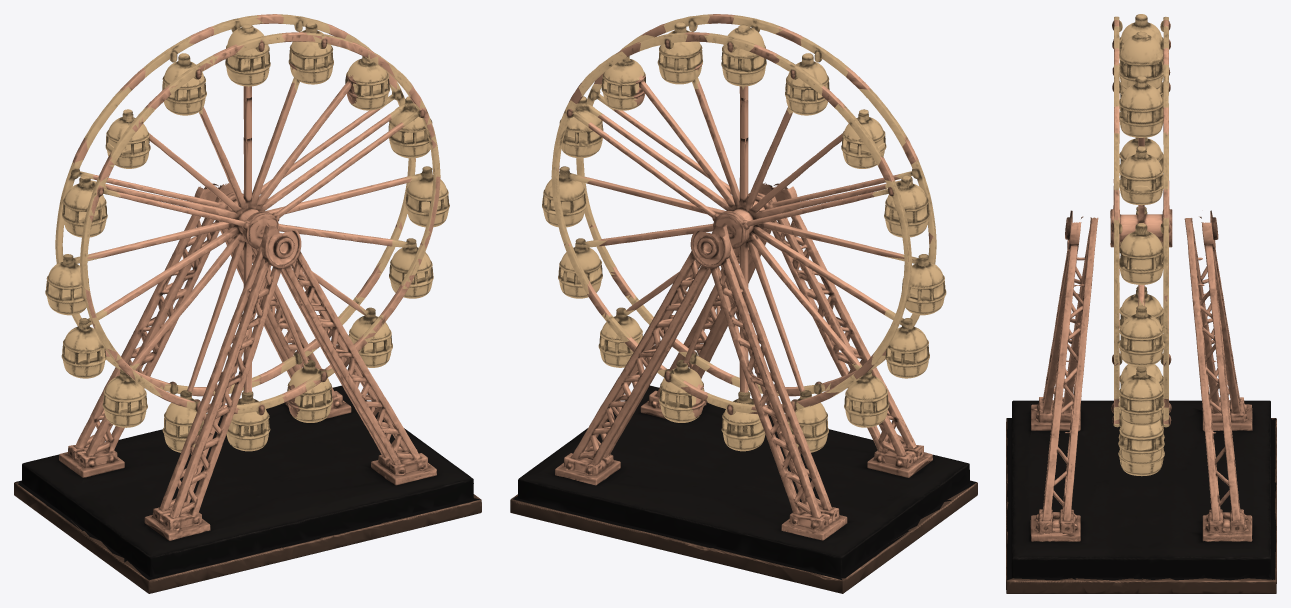
Rendered from ferris-wheel-rare.v1.glb.
3 renders of one model, left to right at view 1: azimuth 30°, elevation 25°; view 2: azimuth 150°, elevation 25°; view 3: azimuth 270°, elevation 25°, orthographic.
Visible parts, largest first — view 1: FerrisWheelTrophy; view 2: FerrisWheelTrophy; view 3: FerrisWheelTrophy.
Boxes of the visible parts, box(x1,y1,x2,y2) form: FerrisWheelTrophy: box(14, 14, 481, 593); FerrisWheelTrophy: box(510, 14, 977, 593); FerrisWheelTrophy: box(1006, 14, 1276, 593).
Size of the model in its own units: 0.8713 by 1 by 0.5125.
4 materials, 4 textured.
